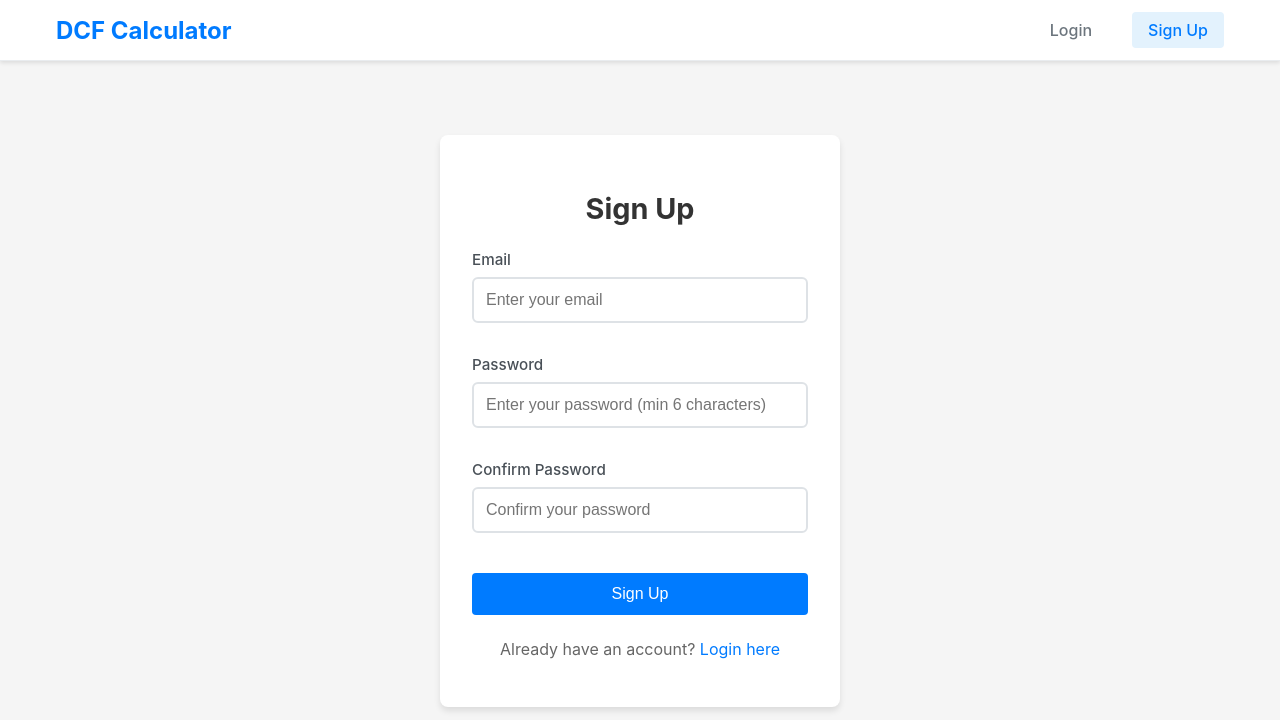
Test: Authentication Flow › User Registration › should handle registration API error
In the field with test id "email-input": [640, 300] box [472,277,808,323], type "existing@example.com"
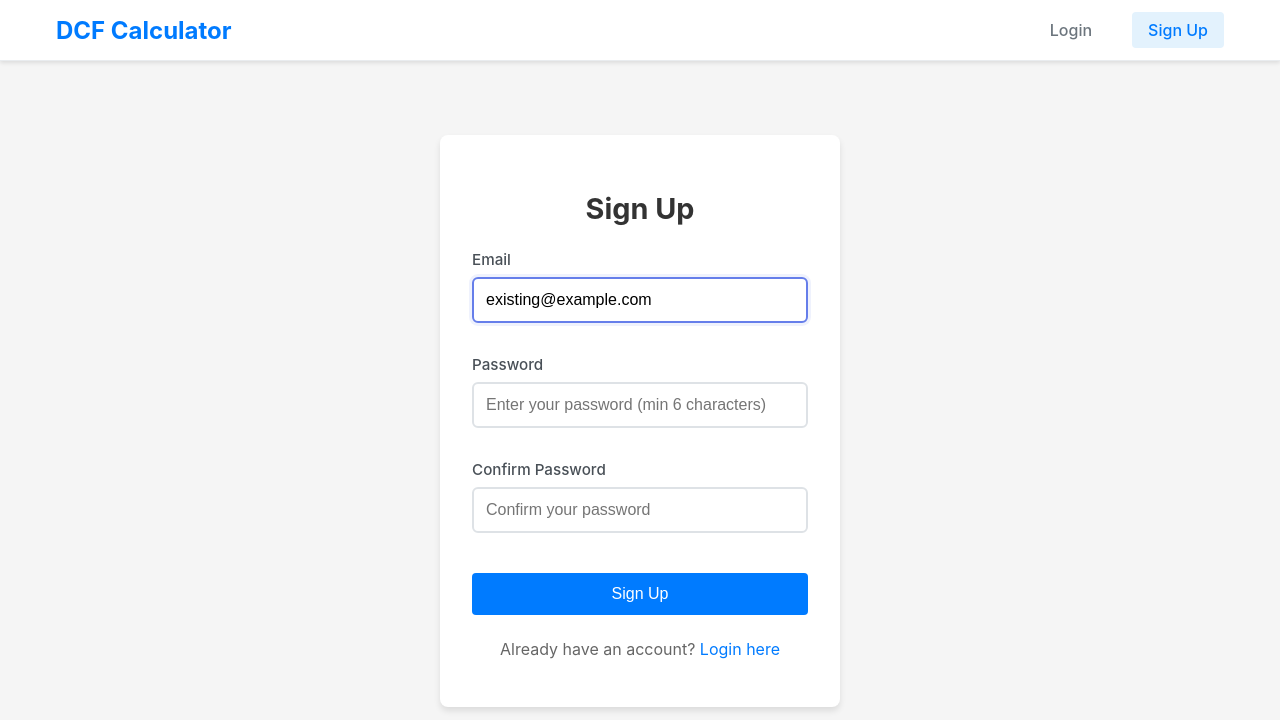
In the password field with test id "password-input": [640, 405] box [472,382,808,428], type "password123"
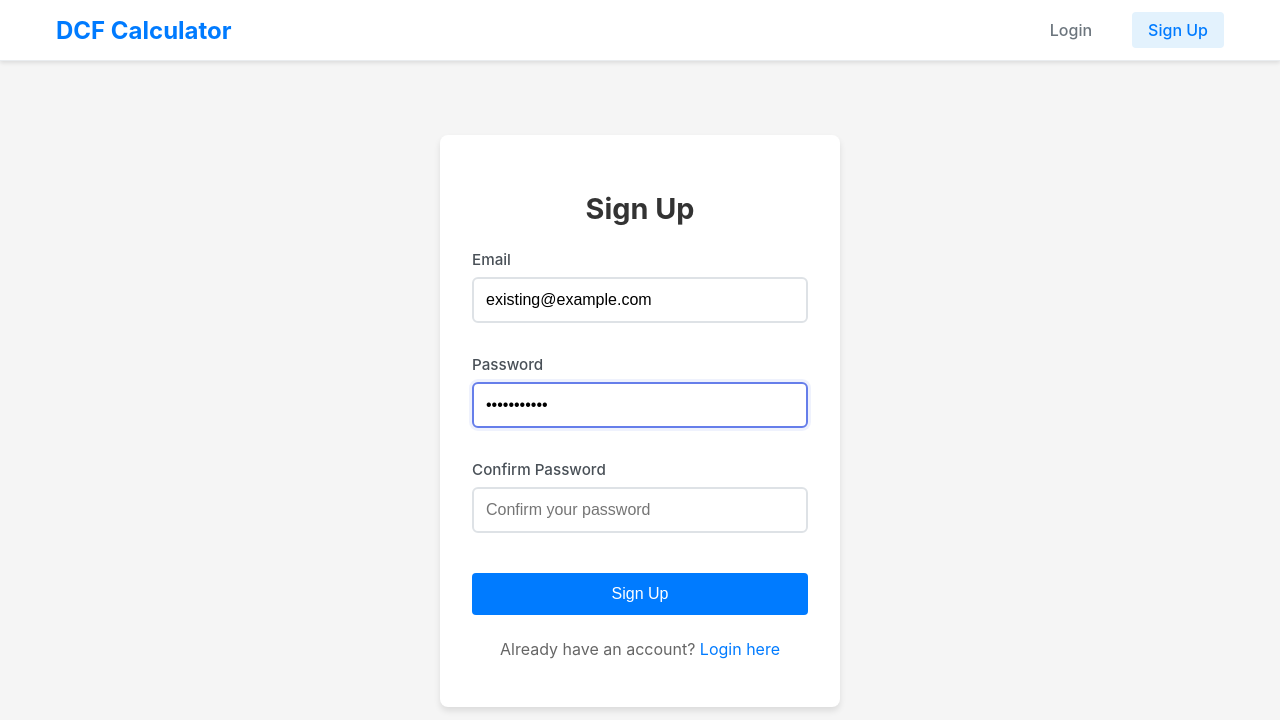
In the password field with test id "confirm-password-input": [640, 510] box [472,487,808,533], type "password123"
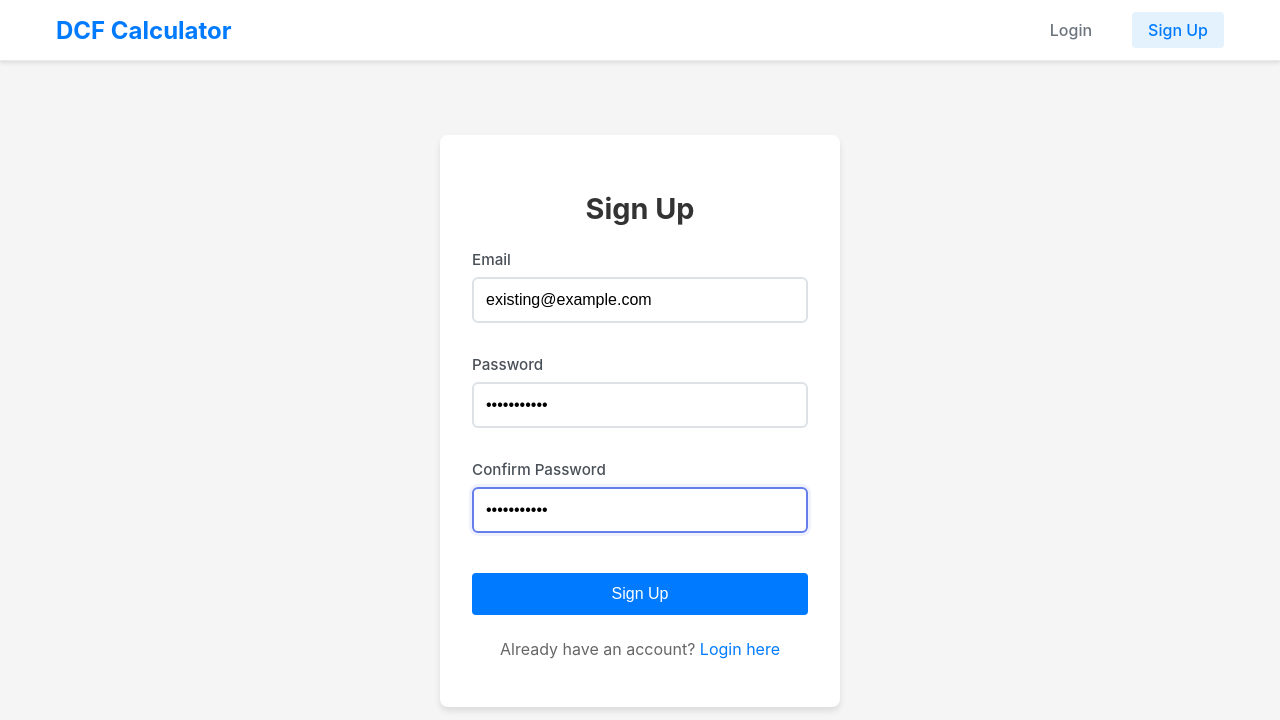
Click the button with test id "signup-button": [640, 594] box [472,573,808,615]
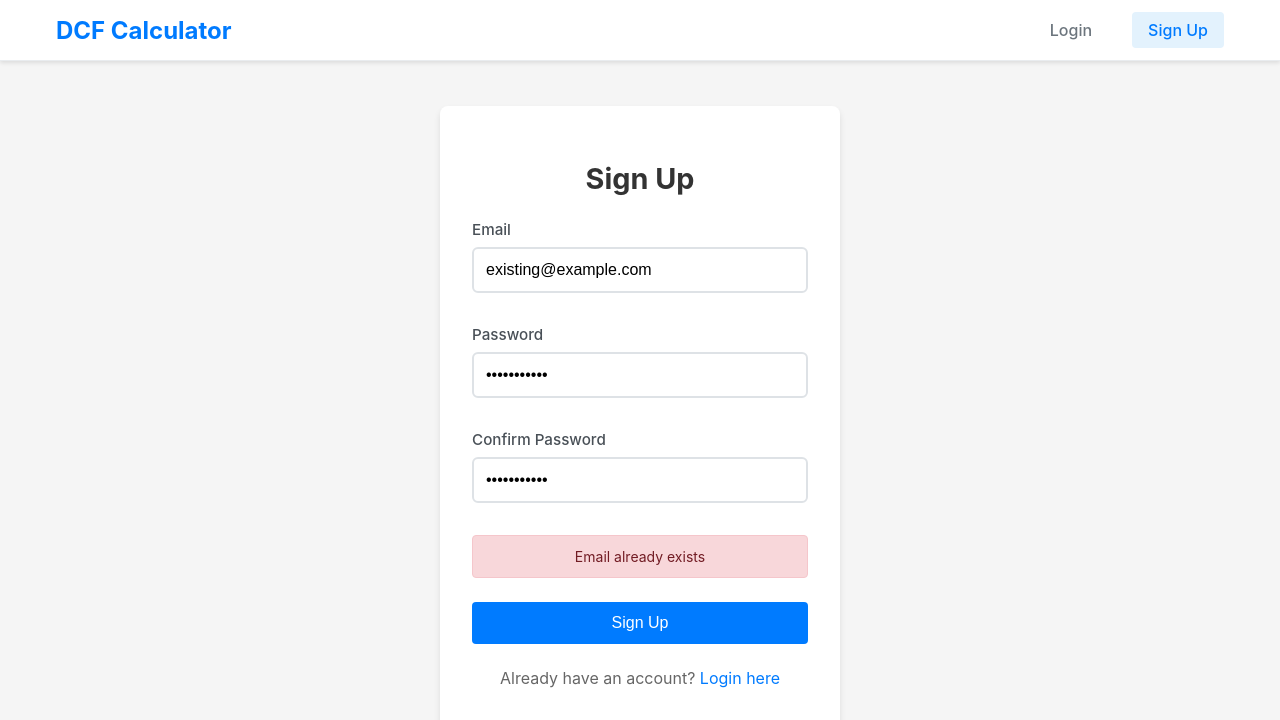
Expected: the text "Email already exists" is shown, [472,535,808,578]
